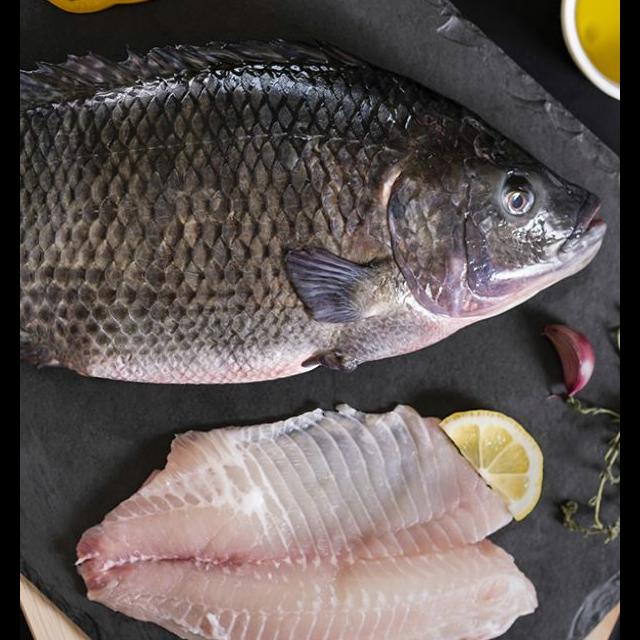fish: (60, 390, 552, 640)
